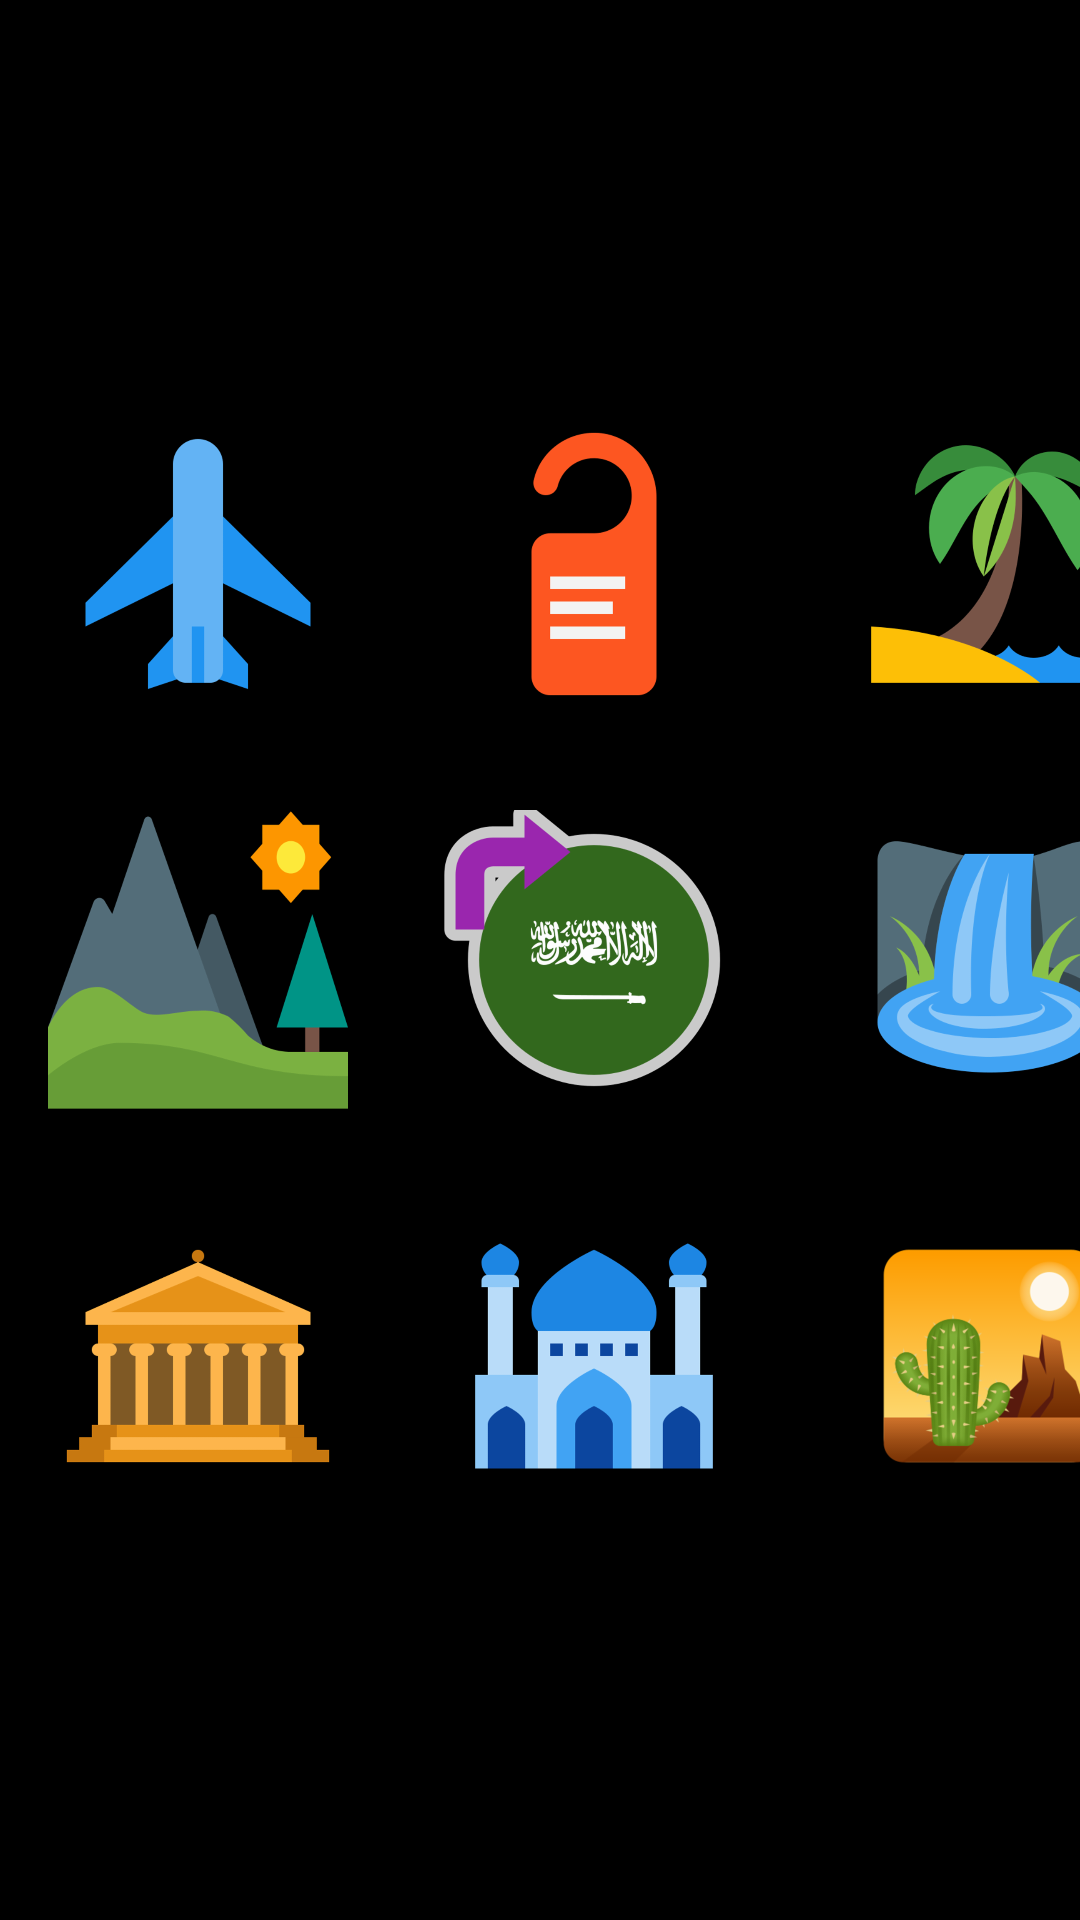

Icon click points for this 1080px×1920px phone screenshot, format point (x, y):
airport: point (198, 564)
hotel: point (594, 564)
landscape: point (198, 960)
mosque: point (594, 1356)
museum: point (198, 1356)
saudi: point (582, 948)
